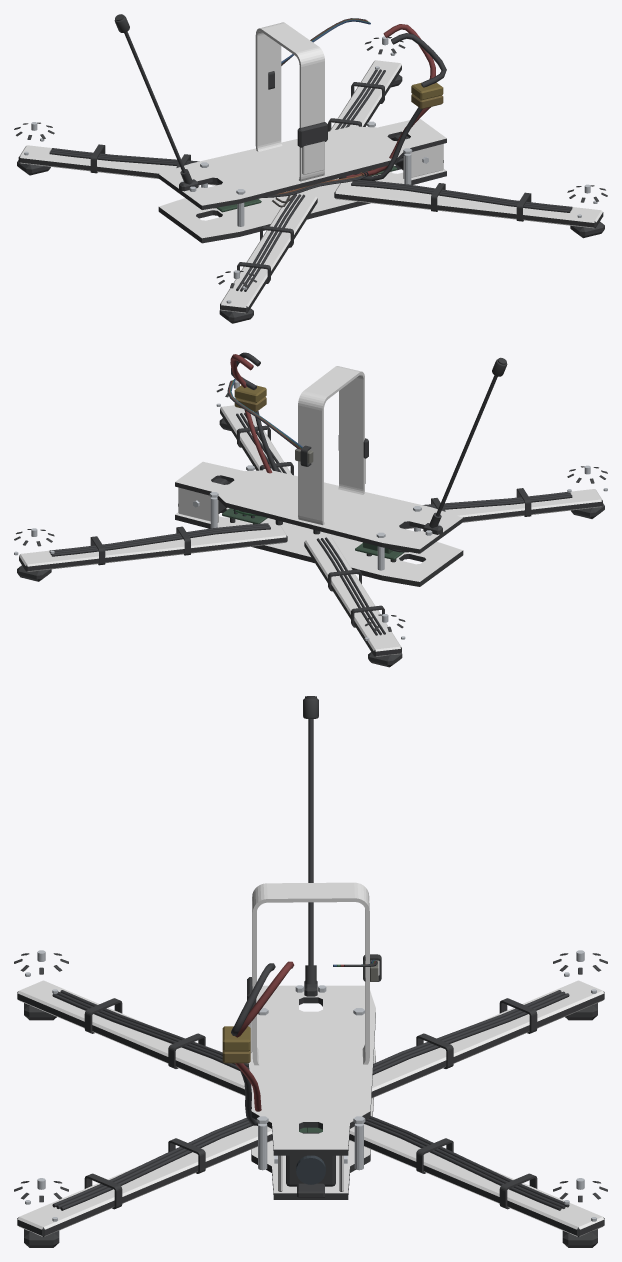
File: Body_LOD0.glb
3 views of the same model, one above another, from view 1: azimuth 30°, elevation 25°; view 2: azimuth 150°, elevation 25°; view 3: azimuth 270°, elevation 25° (orthographic). The views are drawn at different scales.
Parts seen in each view (by area): view 1: Antenna_BracketBolt.002; view 2: Antenna_BracketBolt.002; view 3: Antenna_BracketBolt.002.
Part boxes in pixels (bbox=[...]): Antenna_BracketBolt.002: bbox=[14, 14, 607, 323]; Antenna_BracketBolt.002: bbox=[14, 352, 607, 667]; Antenna_BracketBolt.002: bbox=[14, 696, 607, 1247].
Size of the model in its own units: 0.3214 by 0.1837 by 0.3196.
